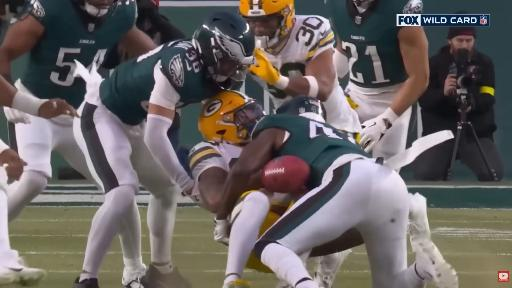Helmet: (194, 12, 254, 82), (199, 91, 265, 145), (239, 0, 294, 48), (275, 96, 326, 122), (75, 0, 118, 17), (352, 0, 373, 6)
Jersey: (19, 0, 137, 107), (100, 39, 221, 125), (326, 0, 422, 93), (252, 115, 369, 190), (265, 15, 334, 76), (189, 142, 242, 180)
Player: (74, 12, 254, 287), (217, 99, 457, 287), (239, 0, 361, 140), (239, 0, 360, 138), (0, 0, 155, 107), (326, 0, 429, 159), (216, 182, 291, 287), (0, 140, 46, 285)
